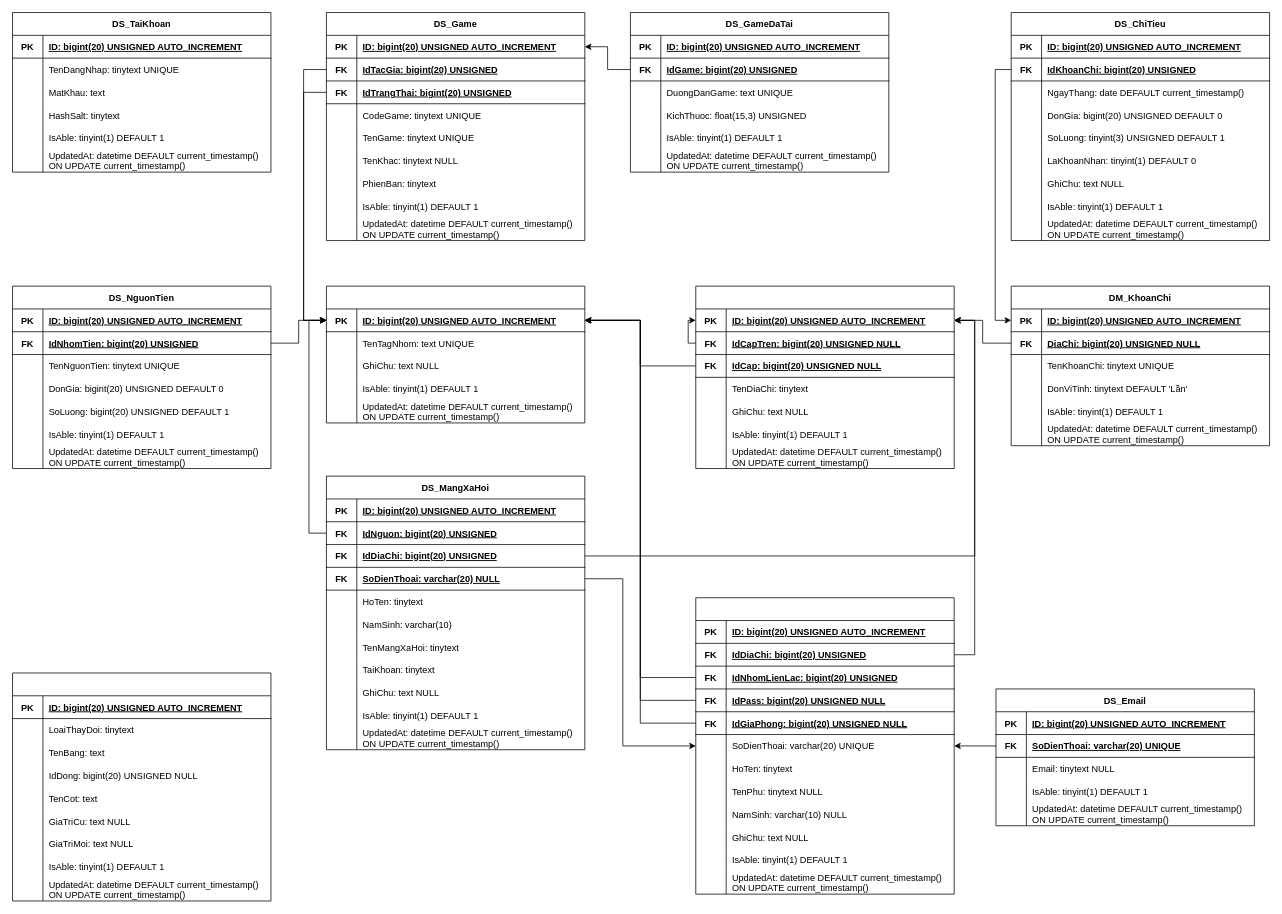
Image size: 1282x914. Some labels were removed from this diagram. The shapes that lost their labels are listed below. From the top down, each one's box as (x1, y1, x2, y2) in pixels, then its label:
(326, 285, 585, 423): DM_TagNhom
(695, 285, 954, 469): DM_DiaChi
(695, 597, 954, 894): DS_LienLac
(12, 672, 271, 901): DS_LichSuThayDoi
